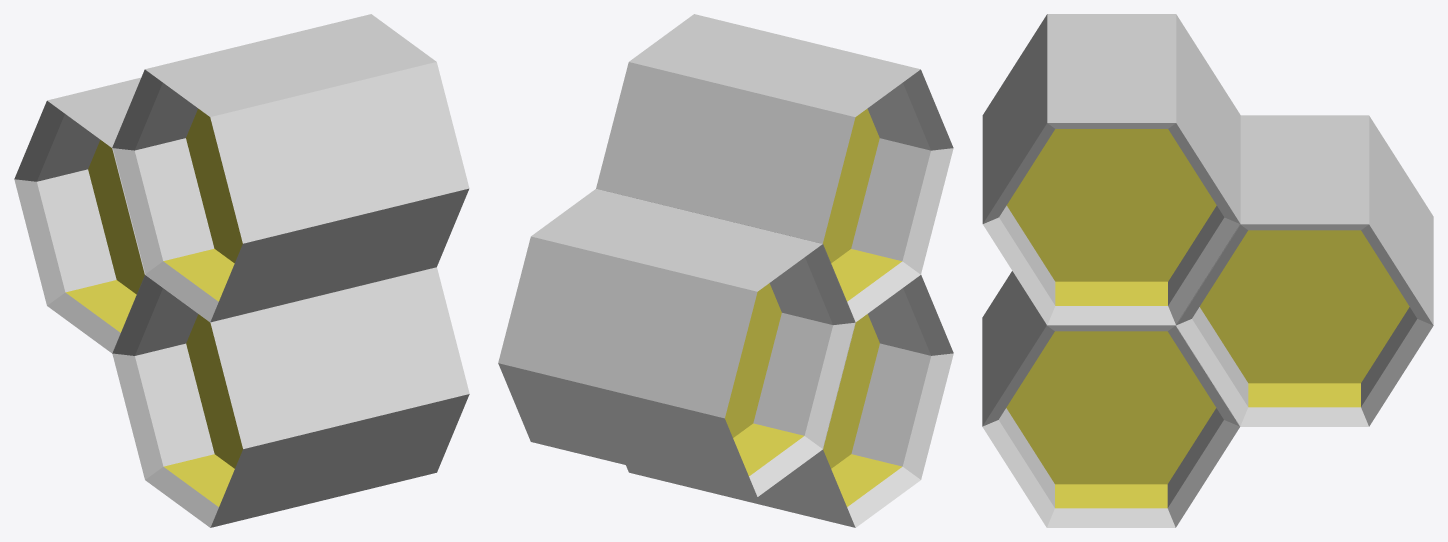
The model's file is Honey_Comb.glb.
3 renders of one model, left to right at view 1: azimuth 30°, elevation 25°; view 2: azimuth 150°, elevation 25°; view 3: azimuth 270°, elevation 25°, orthographic.
Visible parts, largest first — view 1: Hex.002, Hex, Hex.001; view 2: Hex.001, Hex.002, Hex; view 3: Hex.002, Hex.001, Hex.
Part boxes in pixels (x1,y1,x2,y2): Hex.002: (112,14,469,322); Hex: (112,267,469,527); Hex.001: (14,77,145,353); Hex.001: (498,188,855,496); Hex.002: (596,14,953,322); Hex: (626,275,953,527); Hex.002: (982,14,1240,325); Hex.001: (1176,115,1433,426); Hex: (982,271,1239,527).
Bounding box in the file's own units: 2 × 3.46 × 3.5.
